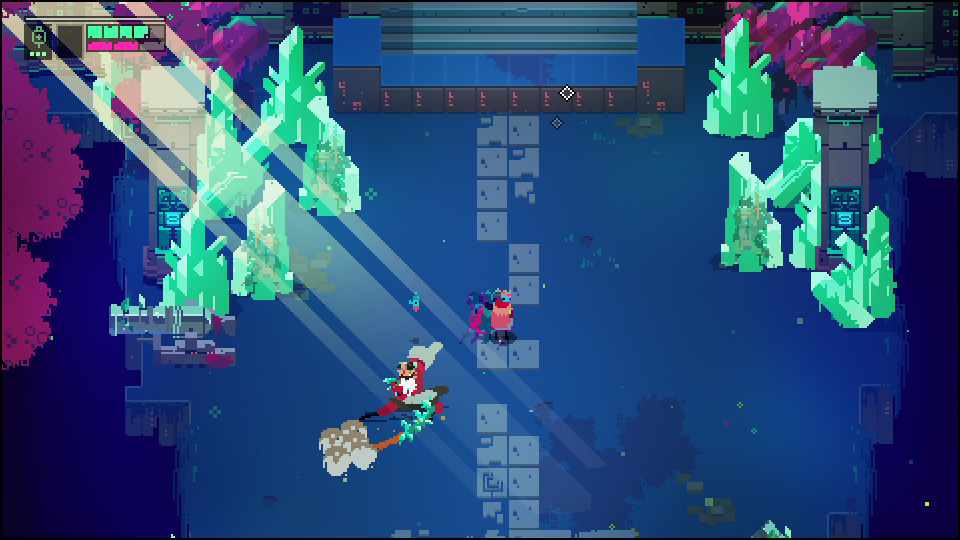hanged_man: (358, 345, 446, 448)
player: (490, 286, 512, 342)
